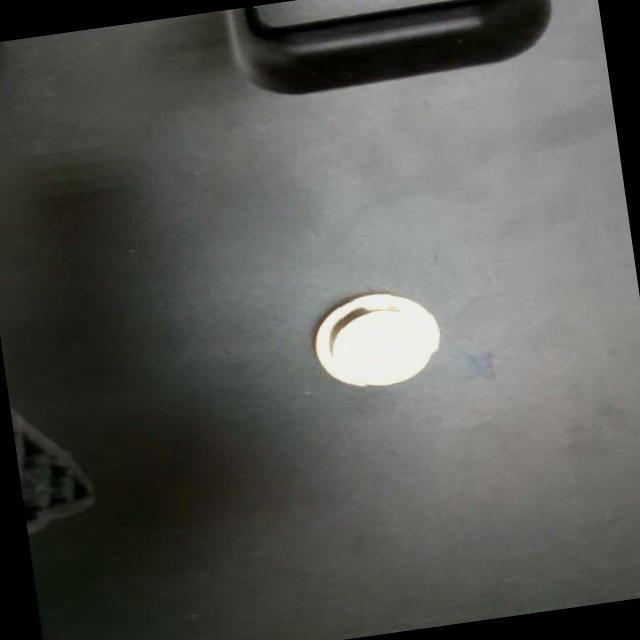sensor: (308, 284, 448, 398)
